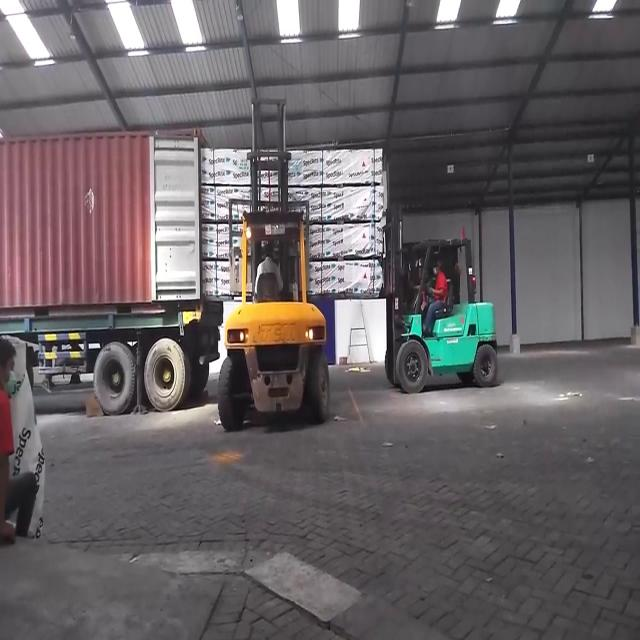Chariot elevateur: (214, 163, 336, 438), (378, 230, 506, 400)
